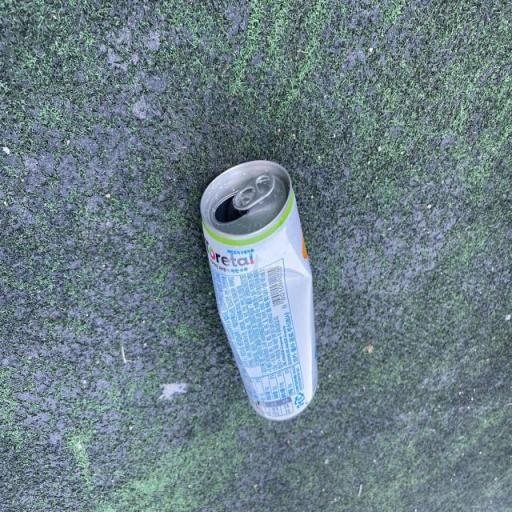metal: (195, 148, 326, 442)
